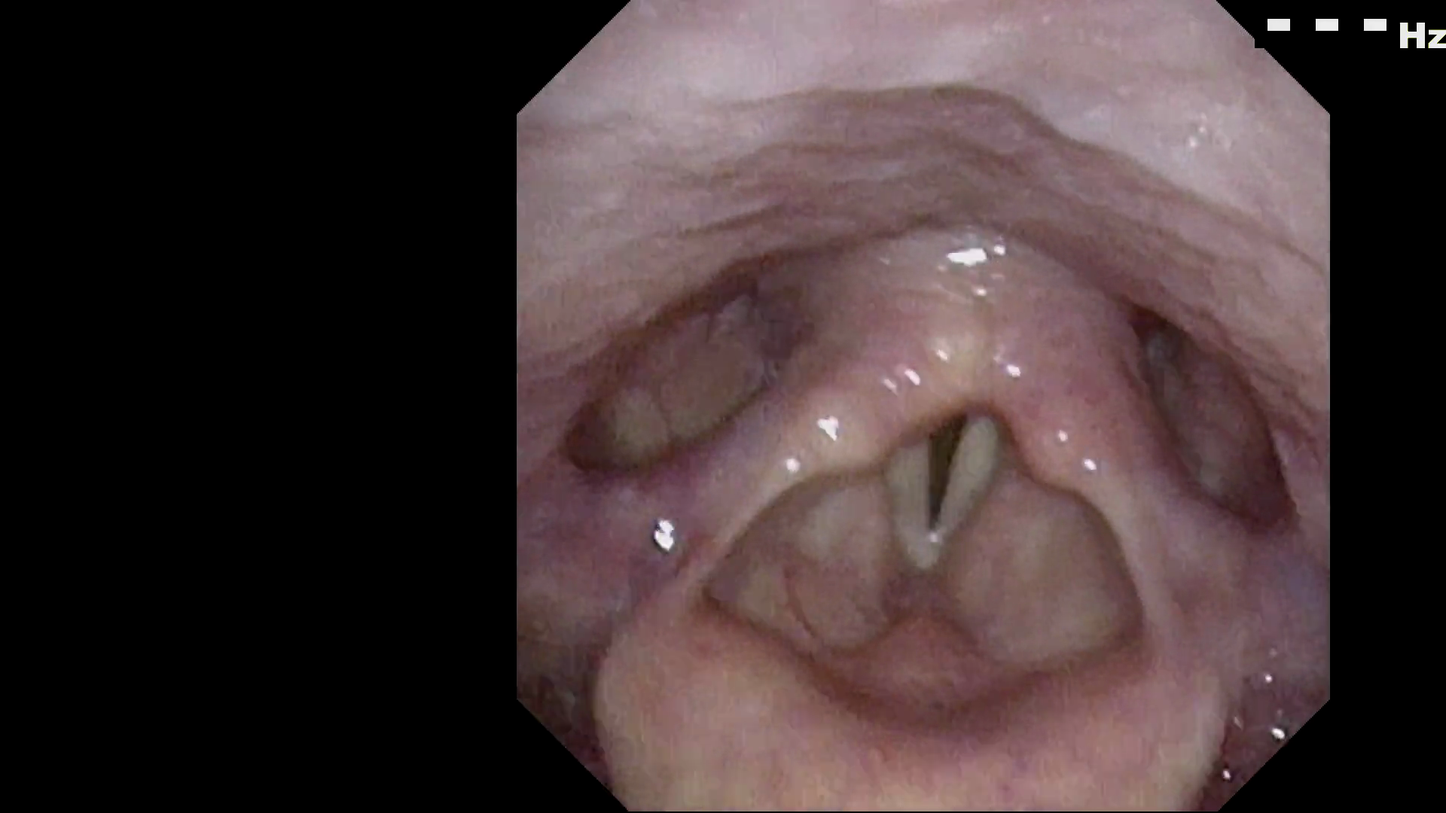epiglottis: (577, 512, 1223, 750)
trachea: (854, 352, 1033, 577)
